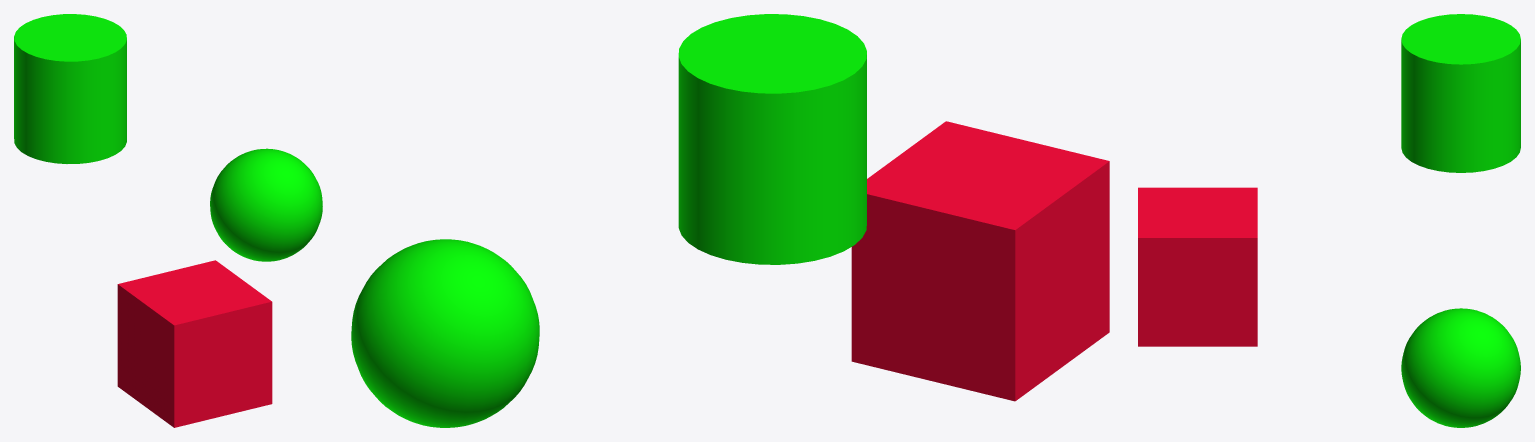
3 renders of one model, left to right at view 1: azimuth 30°, elevation 25°; view 2: azimuth 150°, elevation 25°; view 3: azimuth 270°, elevation 25°, orthographic. The views are drawn at different scales.
Size of the model in its own units: 3 by 2.6 by 3.2.
